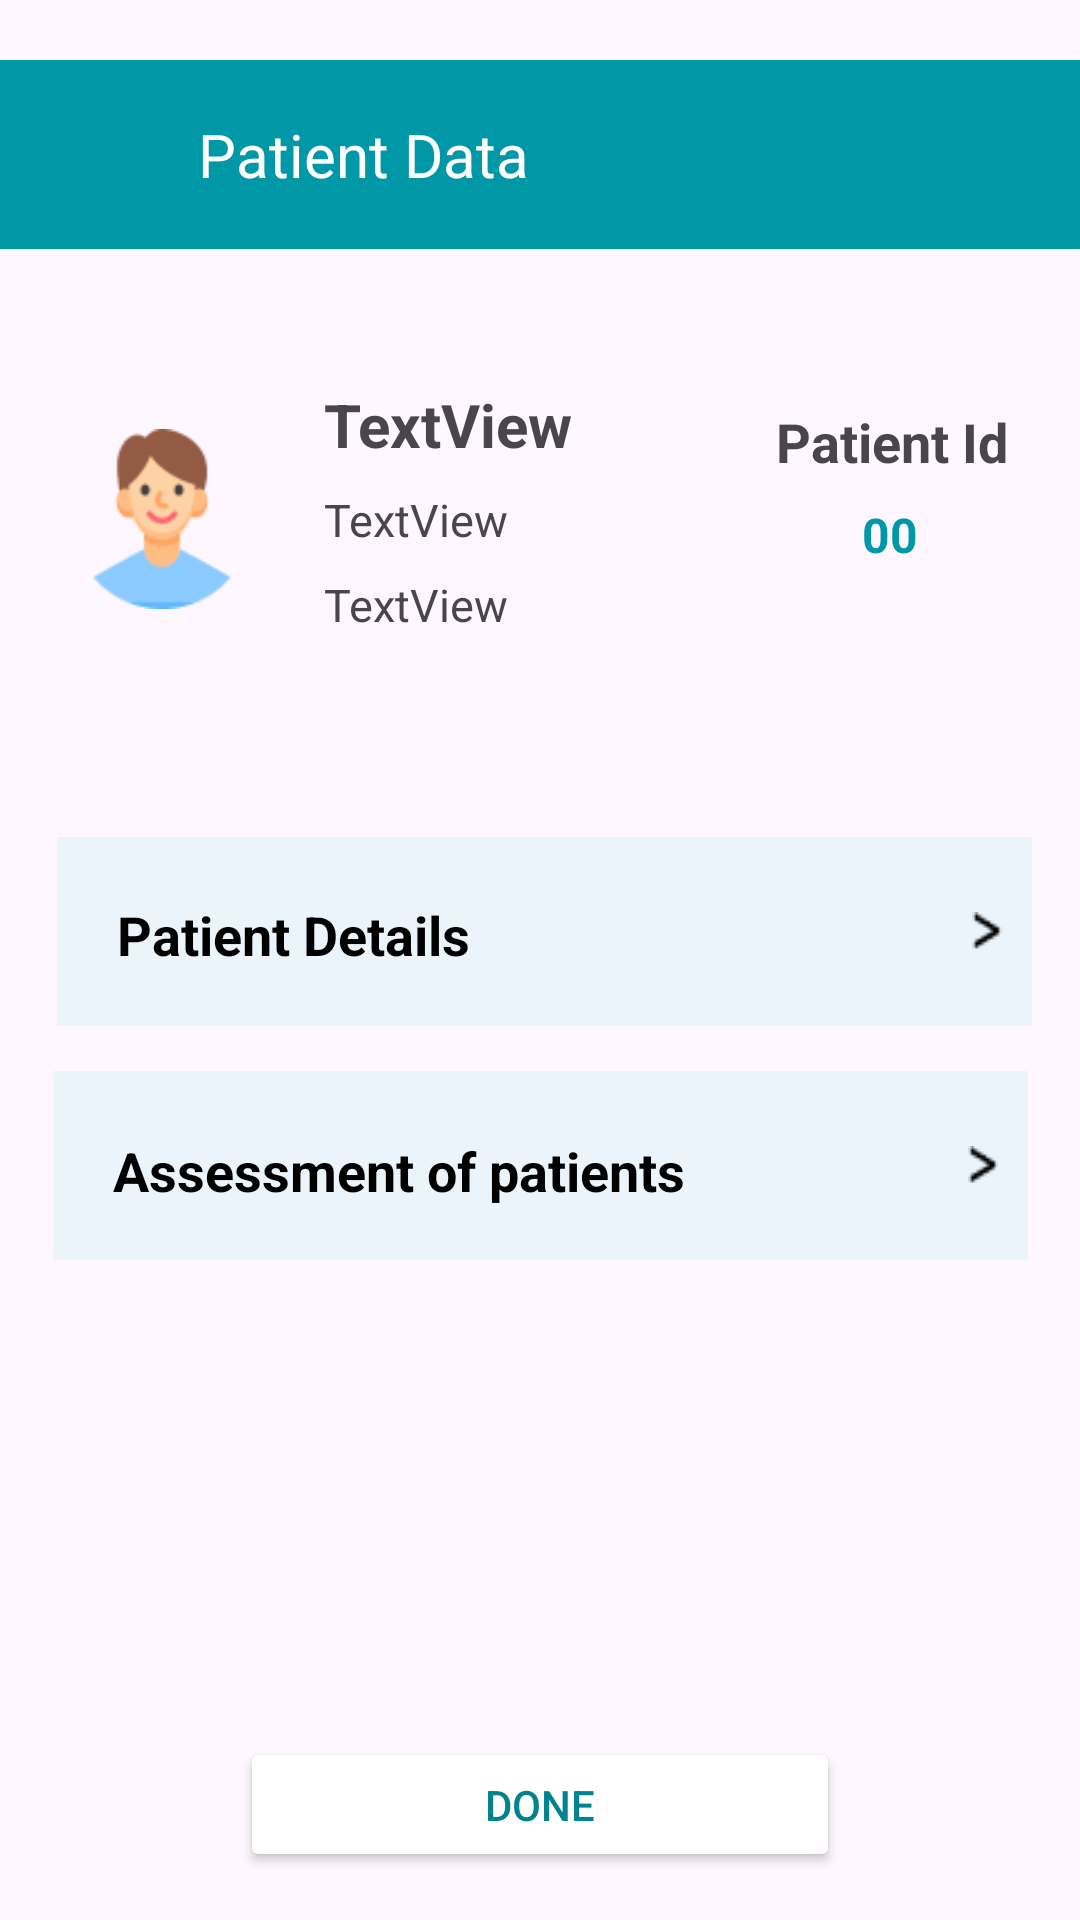

Icons on this 1080 x 1920 Android screen, each with the point to tap as (x=x, y=y):
forw: (x=987, y=930), (x=983, y=1164)
patient profile pic: (x=162, y=519)
